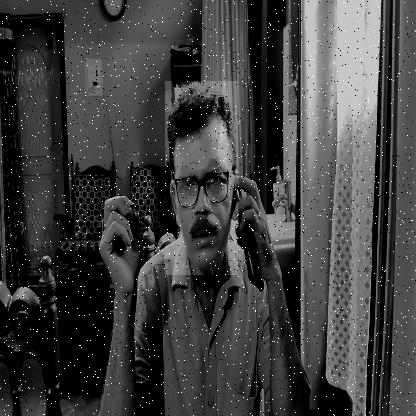Normal: (165, 81, 238, 275)
